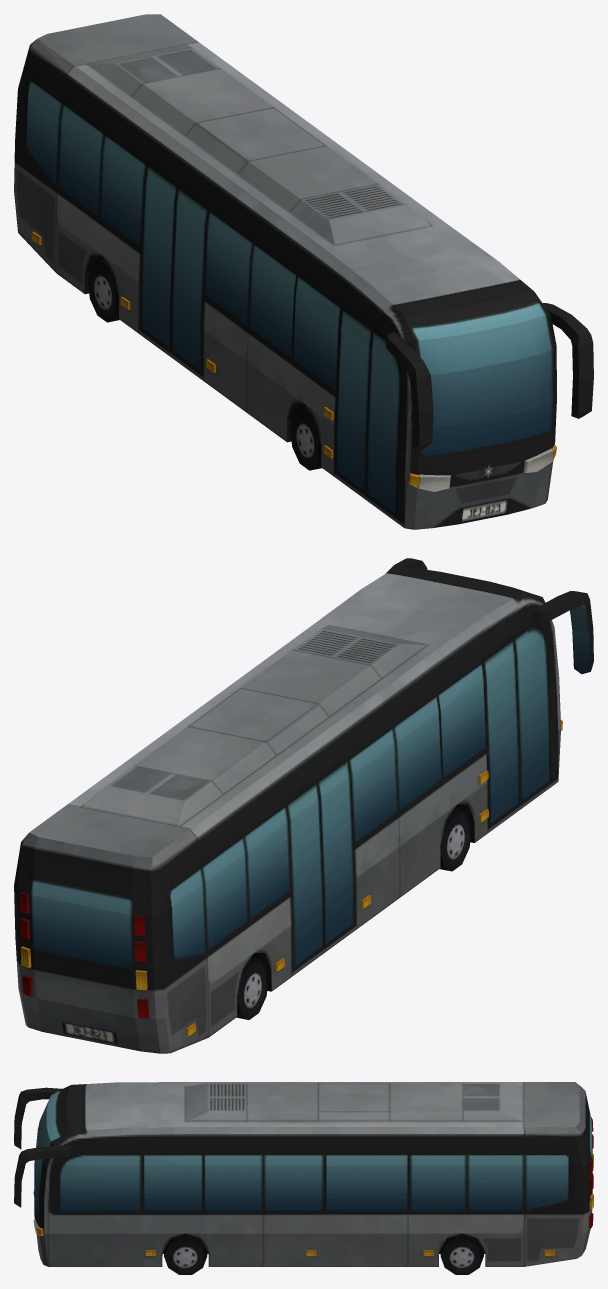
The model's file is bus02_anim_lev3.glb.
3 views of the same model, one above another, from view 1: azimuth 30°, elevation 25°; view 2: azimuth 150°, elevation 25°; view 3: azimuth 270°, elevation 25° (orthographic). The views are drawn at different scales.
Visible parts, largest first — view 1: bus02_anim_lev3; view 2: bus02_anim_lev3; view 3: bus02_anim_lev3.
Part boxes in pixels (bbox=[...]): bus02_anim_lev3: bbox=[14, 14, 593, 529]; bus02_anim_lev3: bbox=[14, 558, 593, 1053]; bus02_anim_lev3: bbox=[14, 1082, 593, 1274].
Bounding box in the file's own units: 8.92 × 10.89 × 36.2.
1 material, 1 textured.
